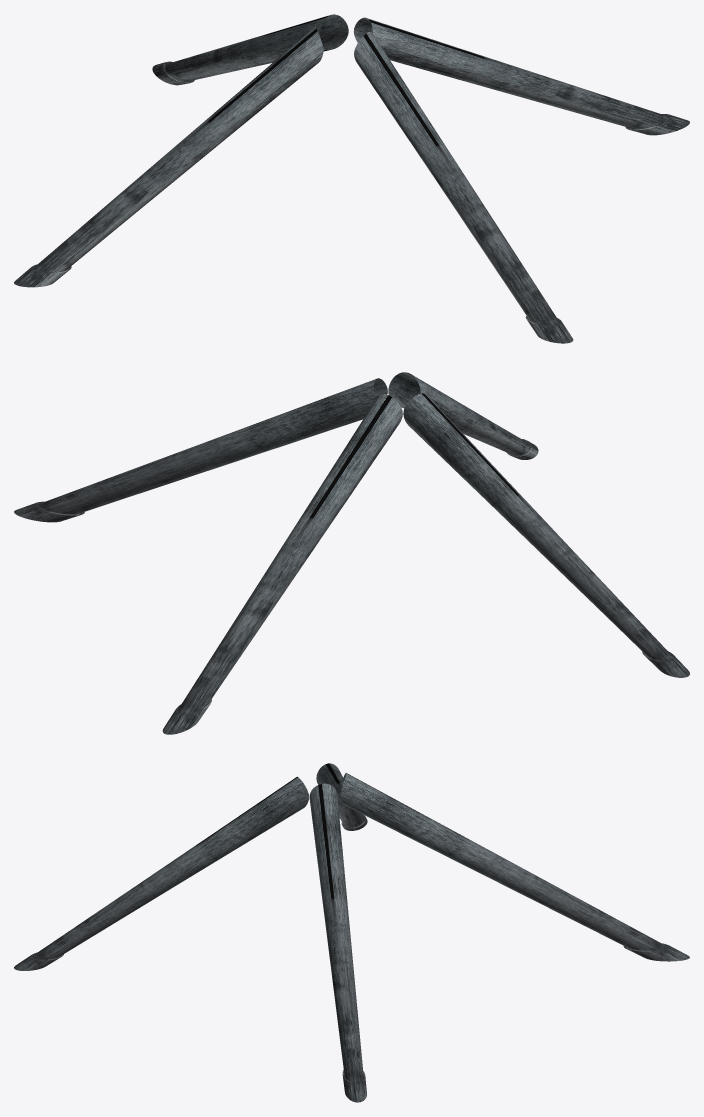
Rendered from studyroom_27.obj.
3 views of the same model, one above another, from view 1: azimuth 30°, elevation 25°; view 2: azimuth 150°, elevation 25°; view 3: azimuth 270°, elevation 25° (orthographic). The views are drawn at different scales.
Size of the model in its own units: 0.8982 by 0.255 by 0.8975.
